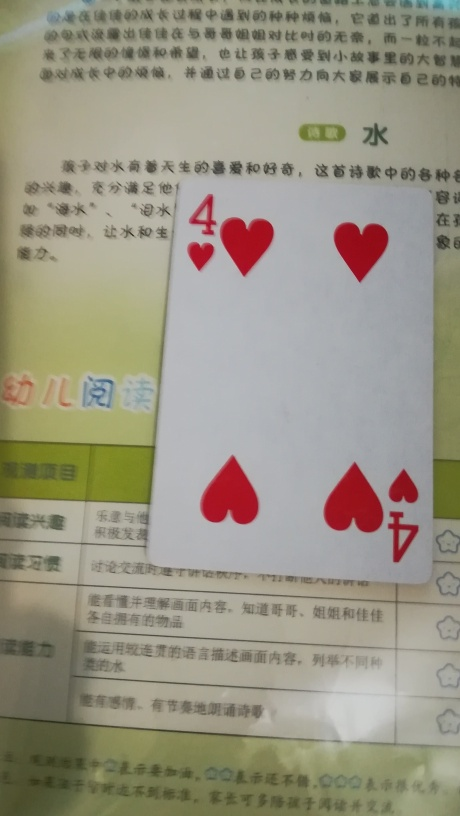hx 4: (141, 173, 433, 587)
